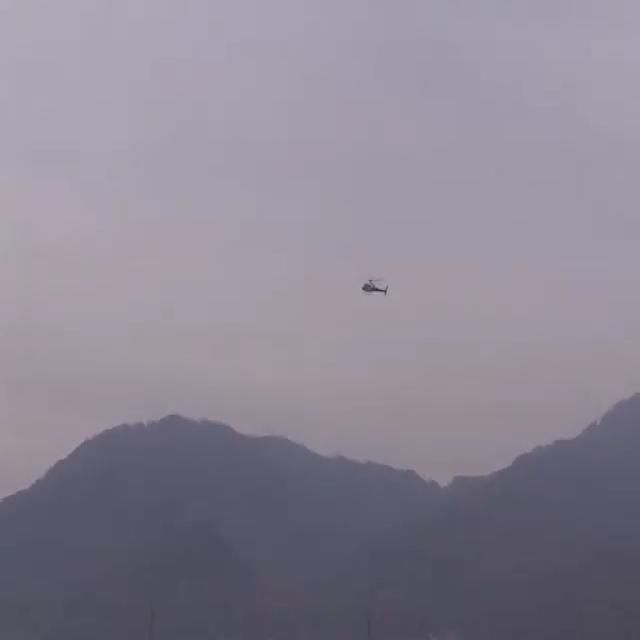Helicopter: (349, 260, 396, 306)
